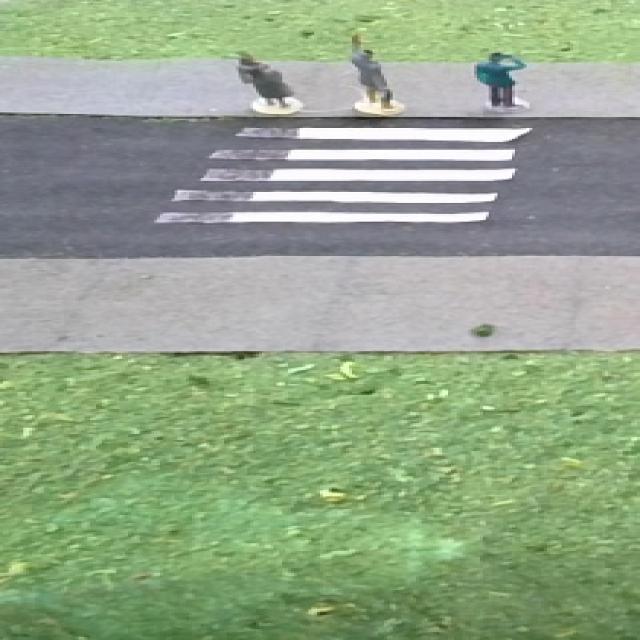person: (341, 33, 412, 114), (226, 49, 298, 113), (467, 48, 536, 114)
